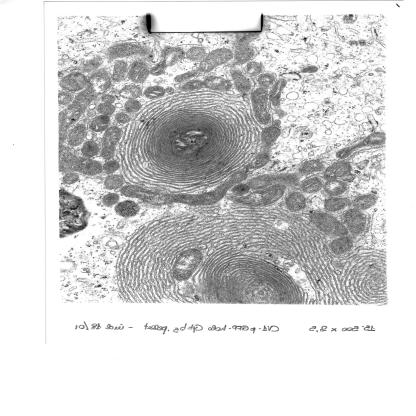mitochondria: (59, 71, 110, 142), (334, 131, 386, 160), (228, 184, 288, 209), (149, 46, 187, 77), (170, 248, 204, 280), (308, 212, 350, 236), (196, 47, 234, 72), (343, 209, 375, 236), (98, 127, 124, 159), (250, 88, 271, 125), (322, 161, 357, 181), (270, 77, 290, 109), (60, 71, 87, 92), (232, 40, 255, 64), (128, 59, 151, 83), (229, 70, 252, 94), (330, 236, 355, 256), (202, 76, 233, 91), (67, 124, 88, 146), (261, 125, 283, 146), (284, 192, 307, 212), (322, 180, 350, 196), (350, 194, 378, 210), (111, 60, 130, 83), (169, 69, 200, 83), (324, 196, 349, 212), (89, 115, 111, 132), (180, 78, 206, 92), (81, 140, 101, 158), (185, 46, 209, 61), (301, 177, 322, 194), (119, 85, 143, 99), (144, 85, 166, 100), (103, 175, 124, 190), (100, 193, 121, 208), (301, 160, 325, 173), (244, 61, 263, 77), (256, 73, 275, 88), (123, 99, 142, 113), (96, 103, 117, 115), (58, 92, 74, 106), (104, 159, 118, 174), (61, 173, 80, 184), (114, 112, 132, 123), (100, 93, 116, 104), (302, 65, 318, 74), (272, 119, 284, 128), (165, 88, 174, 94)
